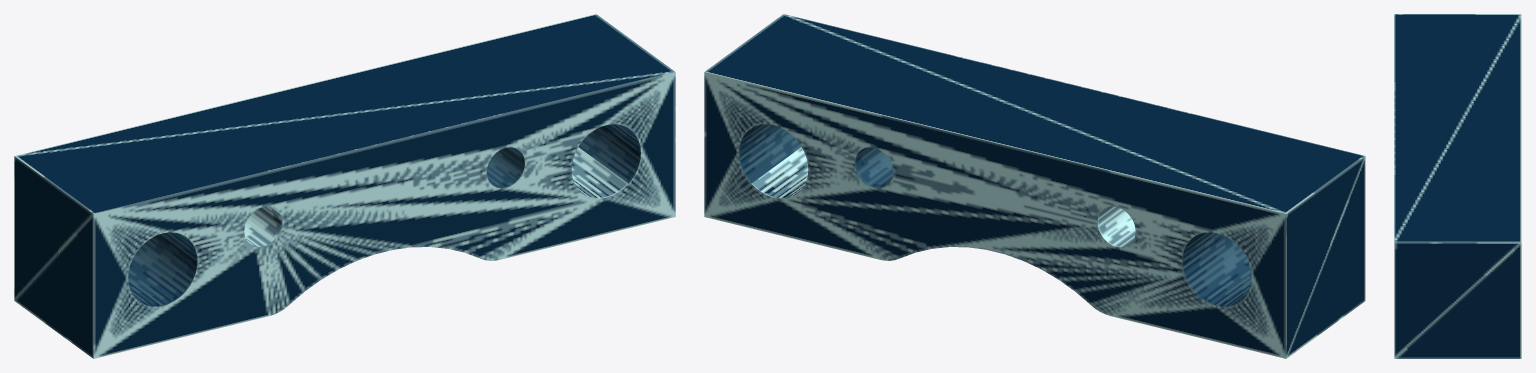
The model's file is Mold4-Spacer block-M.glb.
The picture shows the model from 3 angles, left to right: view 1: azimuth 30°, elevation 25°; view 2: azimuth 150°, elevation 25°; view 3: azimuth 270°, elevation 25°; orthographic projection. The views are drawn at different scales.
Parts seen in each view (by area): view 1: GERGTGQ - CALE4-1; view 2: GERGTGQ - CALE4-1; view 3: GERGTGQ - CALE4-1.
Boxes of the visible parts, x1,y1,x2,y2 form: GERGTGQ - CALE4-1: [14, 14, 675, 358]; GERGTGQ - CALE4-1: [704, 14, 1365, 358]; GERGTGQ - CALE4-1: [1394, 14, 1521, 358].
Size of the model in its own units: 5.98 by 1.42 by 1.41.
Materials: 1 (1 with a texture image).
